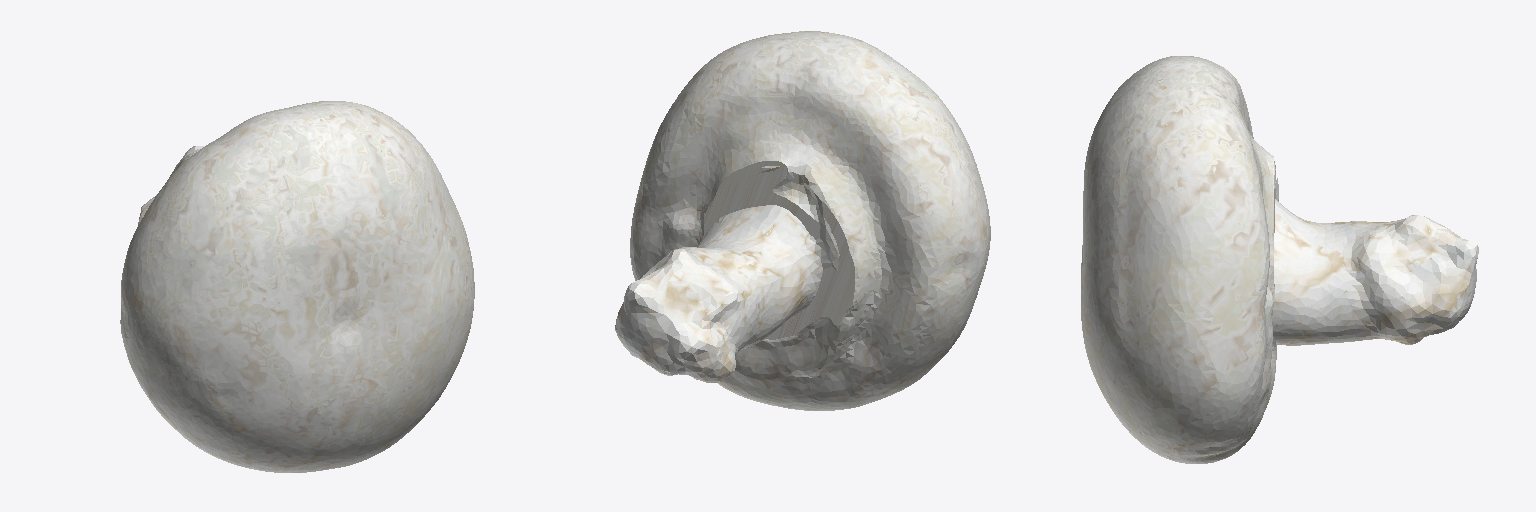
3 renders of one model, left to right at view 1: azimuth 30°, elevation 25°; view 2: azimuth 150°, elevation 25°; view 3: azimuth 270°, elevation 25°, orthographic.
Bounding box in the file's own units: 95.47 × 97.96 × 97.69.
Materials: 1 (1 with a texture image).